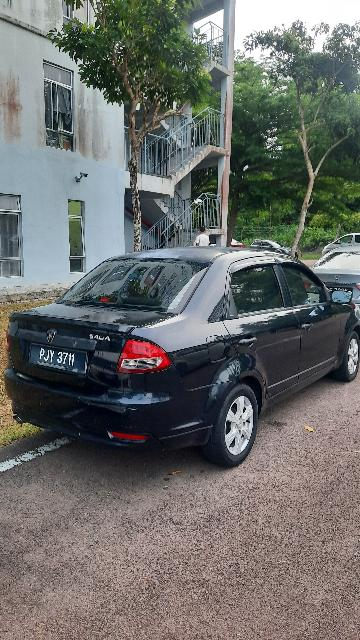License_Plate: (24, 338, 92, 380)
car: (5, 246, 360, 469)
